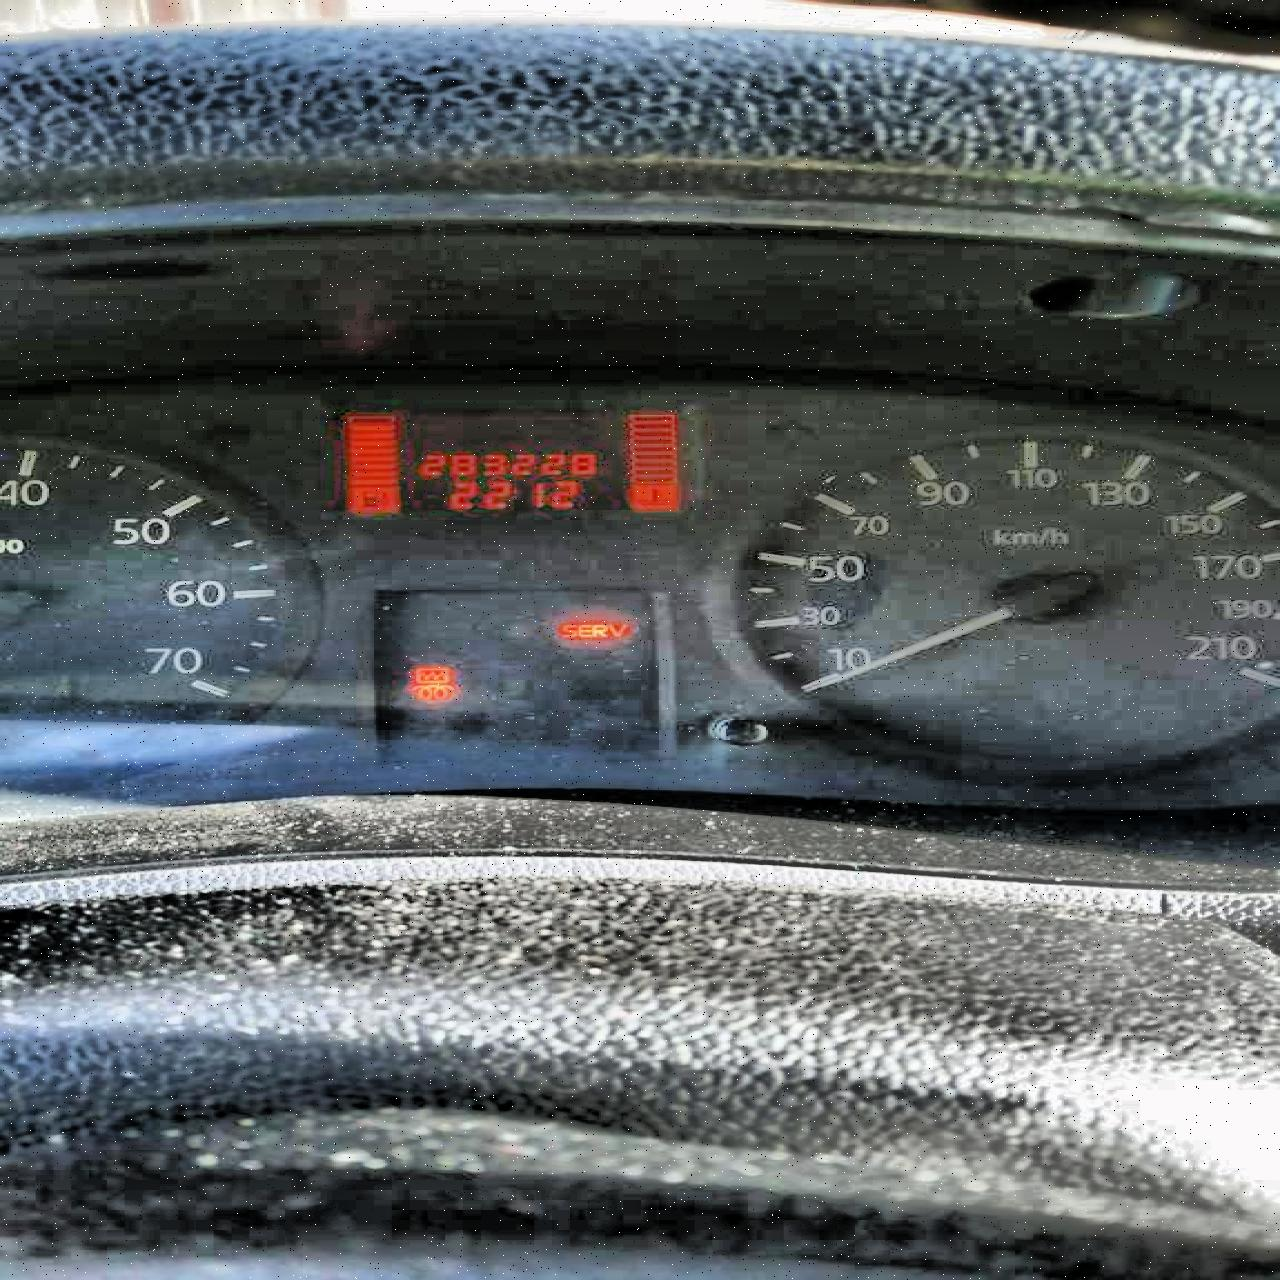1: (530, 481, 545, 510)
2: (550, 478, 579, 508), (481, 479, 508, 509), (448, 481, 475, 509), (416, 452, 443, 475), (512, 452, 535, 477), (540, 452, 565, 475)
3: (481, 452, 505, 477)
8: (448, 452, 475, 475), (570, 452, 594, 474)
odometer: (329, 402, 688, 519)
